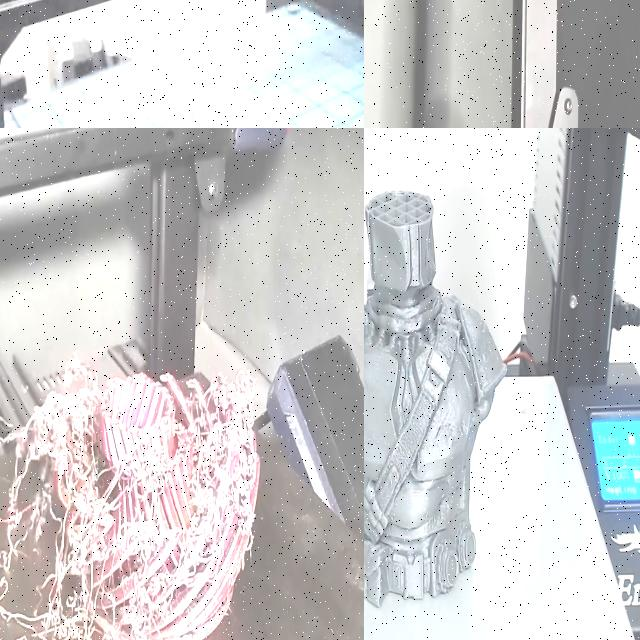spaghetti: (0, 360, 289, 640)
